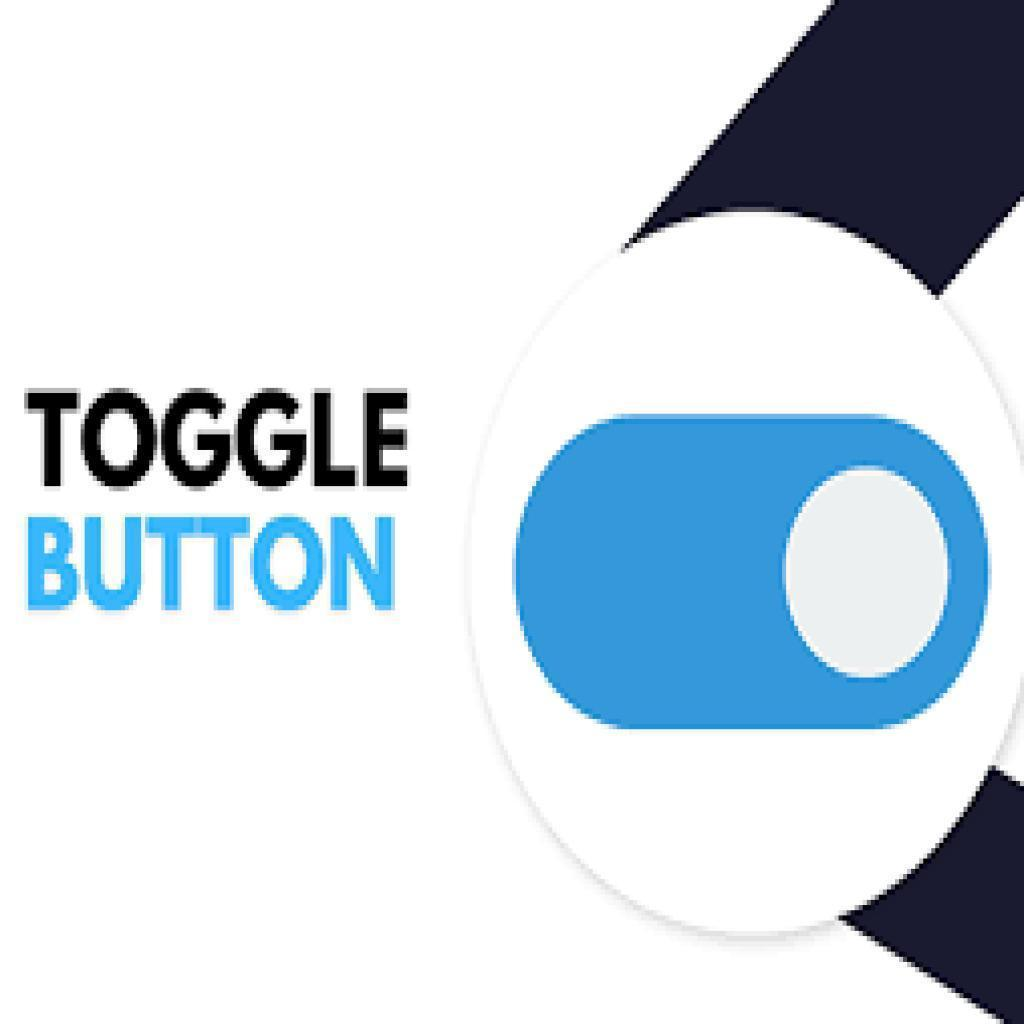switch: (511, 415, 994, 732)
